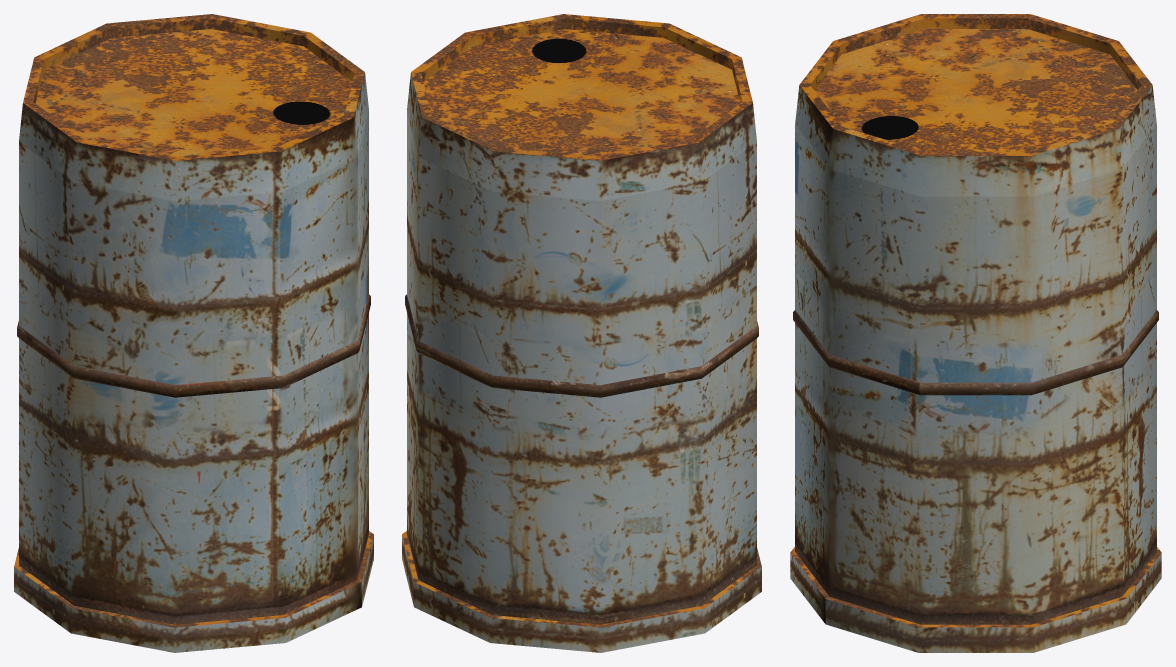
Rendered from barrel_1.fbx.
3 renders of one model, left to right at view 1: azimuth 30°, elevation 25°; view 2: azimuth 150°, elevation 25°; view 3: azimuth 270°, elevation 25°, orthographic.
Visible parts, largest first — view 1: Cube; view 2: Cube; view 3: Cube.
Boxes of the visible parts, x1,y1,x2,y2 form: Cube: (14, 14, 373, 652); Cube: (402, 14, 761, 652); Cube: (790, 14, 1161, 652).
Size of the model in its own units: 92.66 by 143 by 97.43.
1 material, 1 textured.
